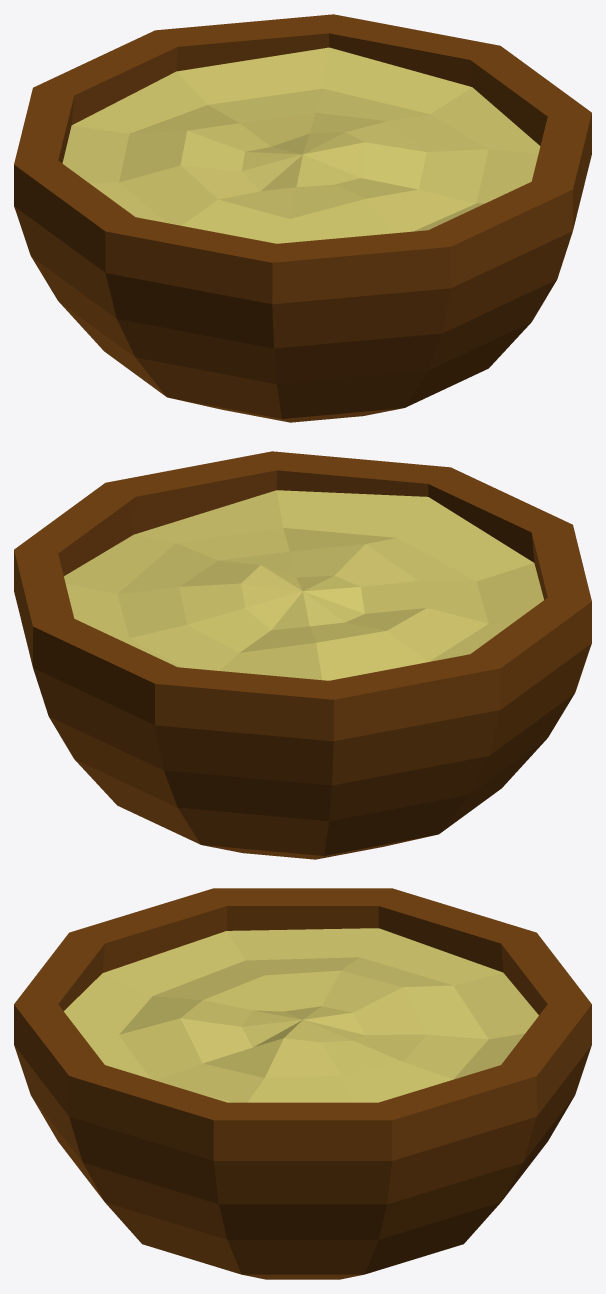
The model's file is SM_WoodenBowl_002.fbx.
The picture shows the model from 3 angles, top to bottom: view 1: azimuth 30°, elevation 25°; view 2: azimuth 150°, elevation 25°; view 3: azimuth 270°, elevation 25°; orthographic projection. The views are drawn at different scales.
Parts seen in each view (by area): view 1: WoodenBowl; view 2: WoodenBowl; view 3: WoodenBowl.
Boxes of the visible parts, <box> form: WoodenBowl: <box>14,14,591,422</box>; WoodenBowl: <box>14,451,591,859</box>; WoodenBowl: <box>14,888,591,1279</box>.
Bounding box in the file's own units: 19 × 8.71 × 20.
